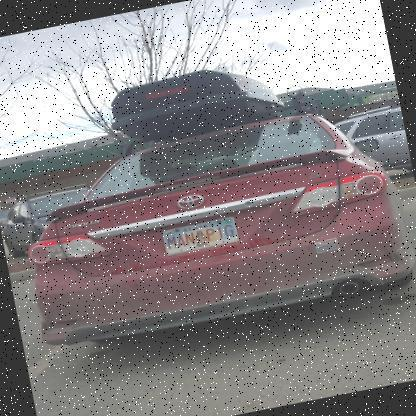License-Plate: (158, 211, 243, 260)
